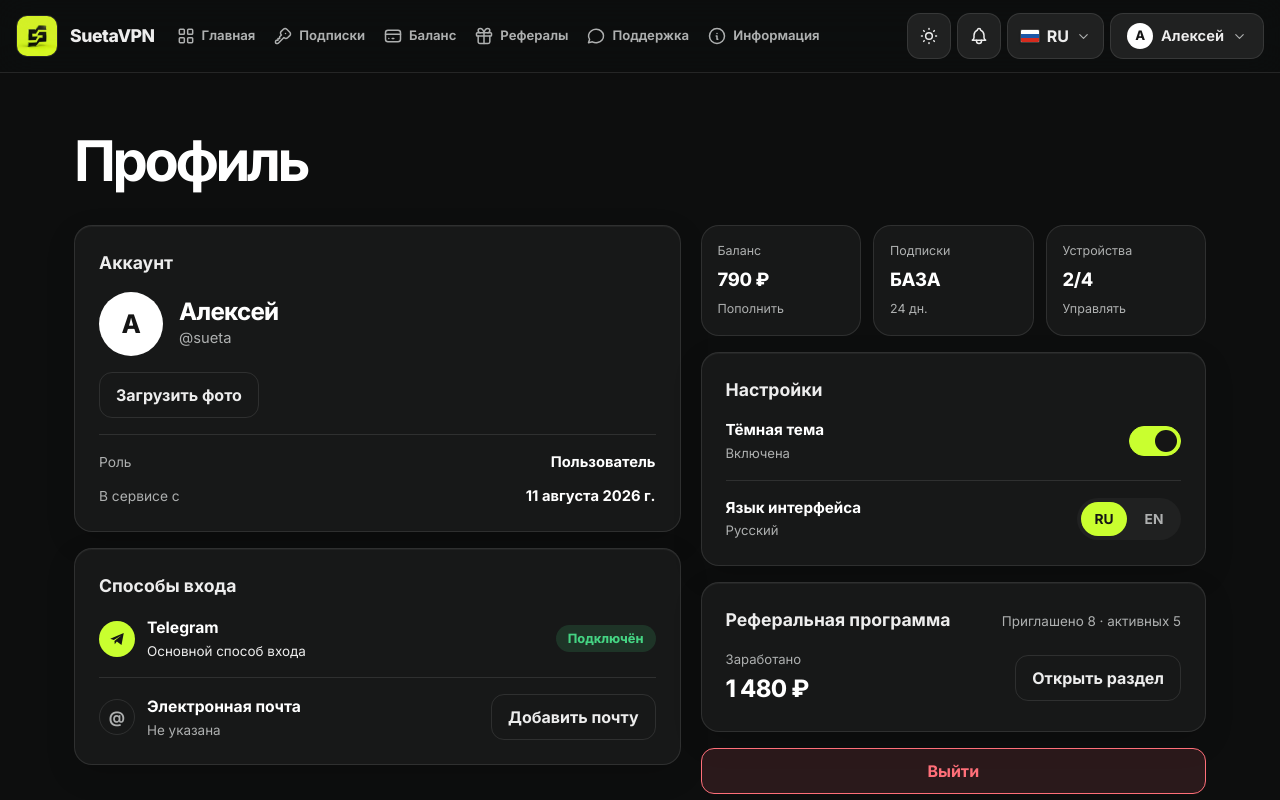
Test: profile screen › rejects a wrong verification code without attaching the email
Click the button "Добавить почту" at (573, 717), box 491,694 -> 656,740
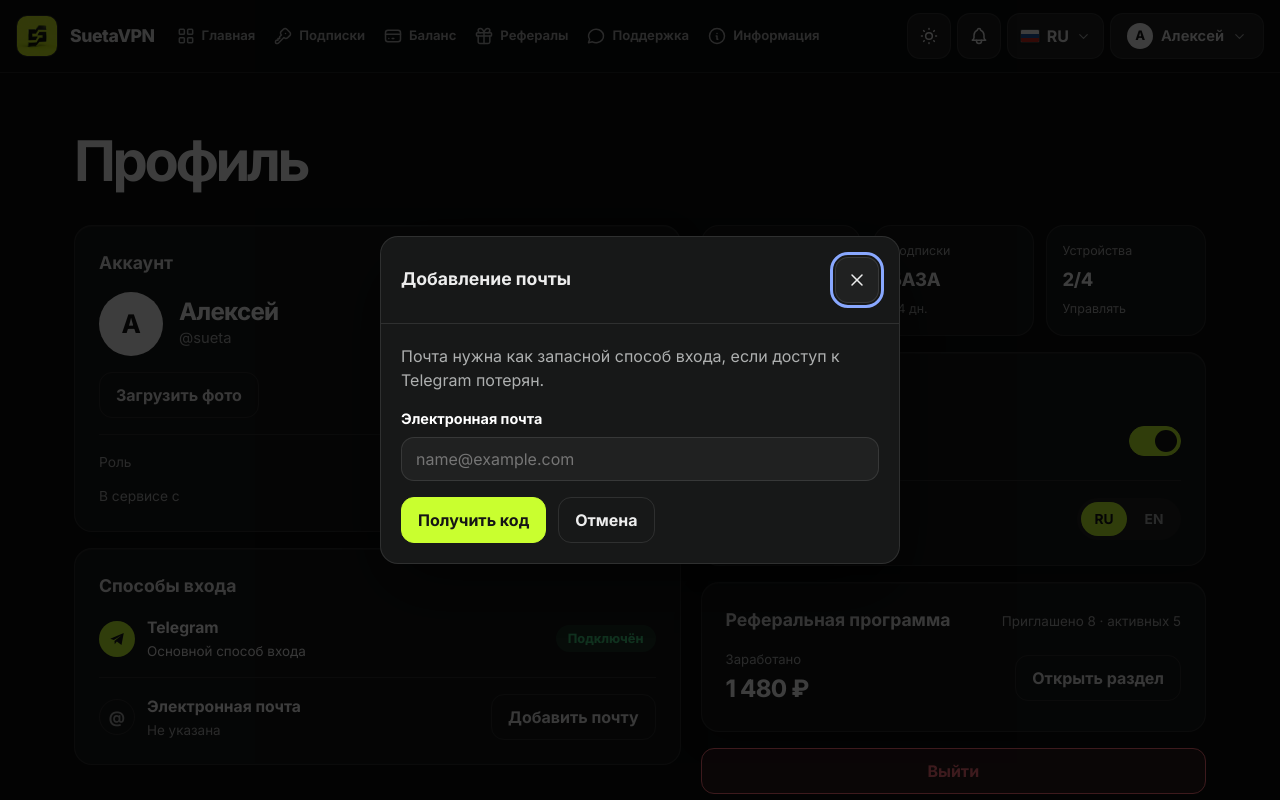
Type "mira@example.com" into the field labelled "Электронная почта" at (640, 459), box 401,437 -> 879,481
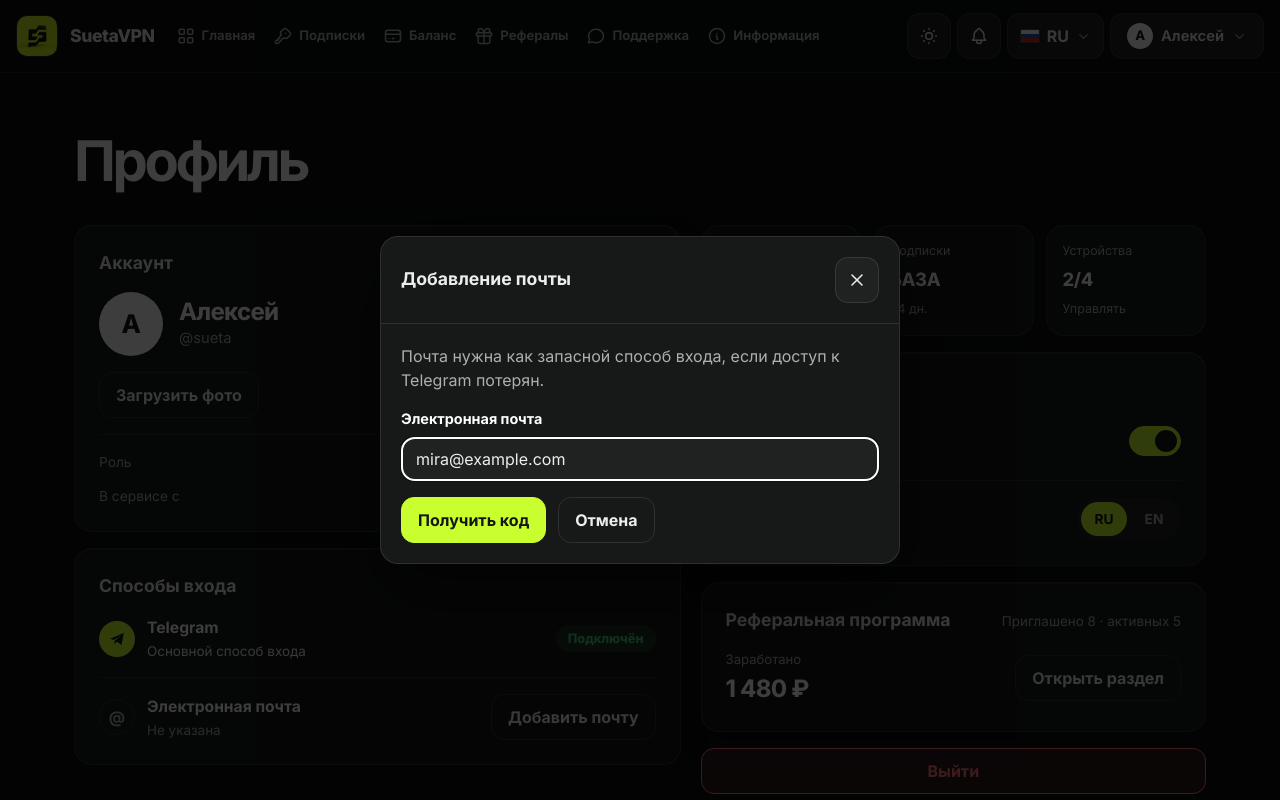
Click the button "Получить код" at (474, 520), box 401,497 -> 546,543
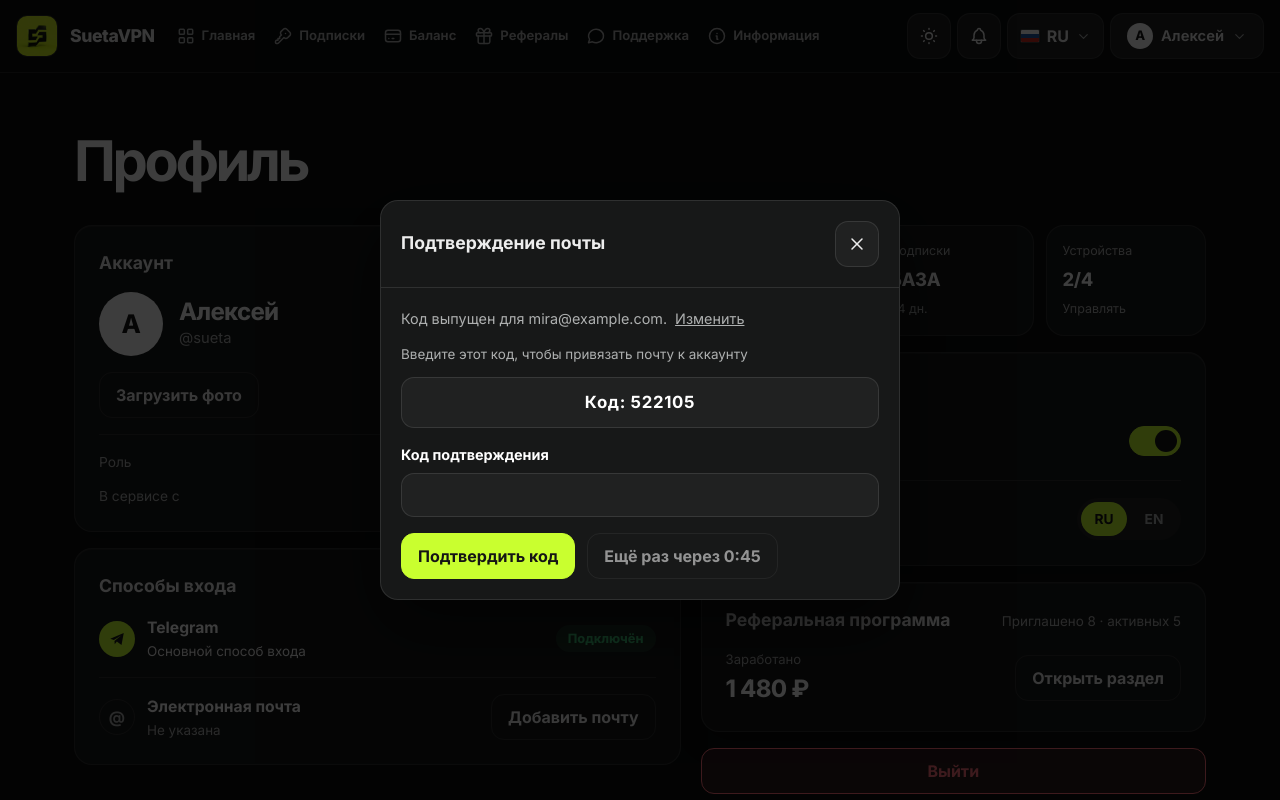
Type "000000" into the field labelled "Код подтверждения" at (640, 495), box 401,473 -> 879,517
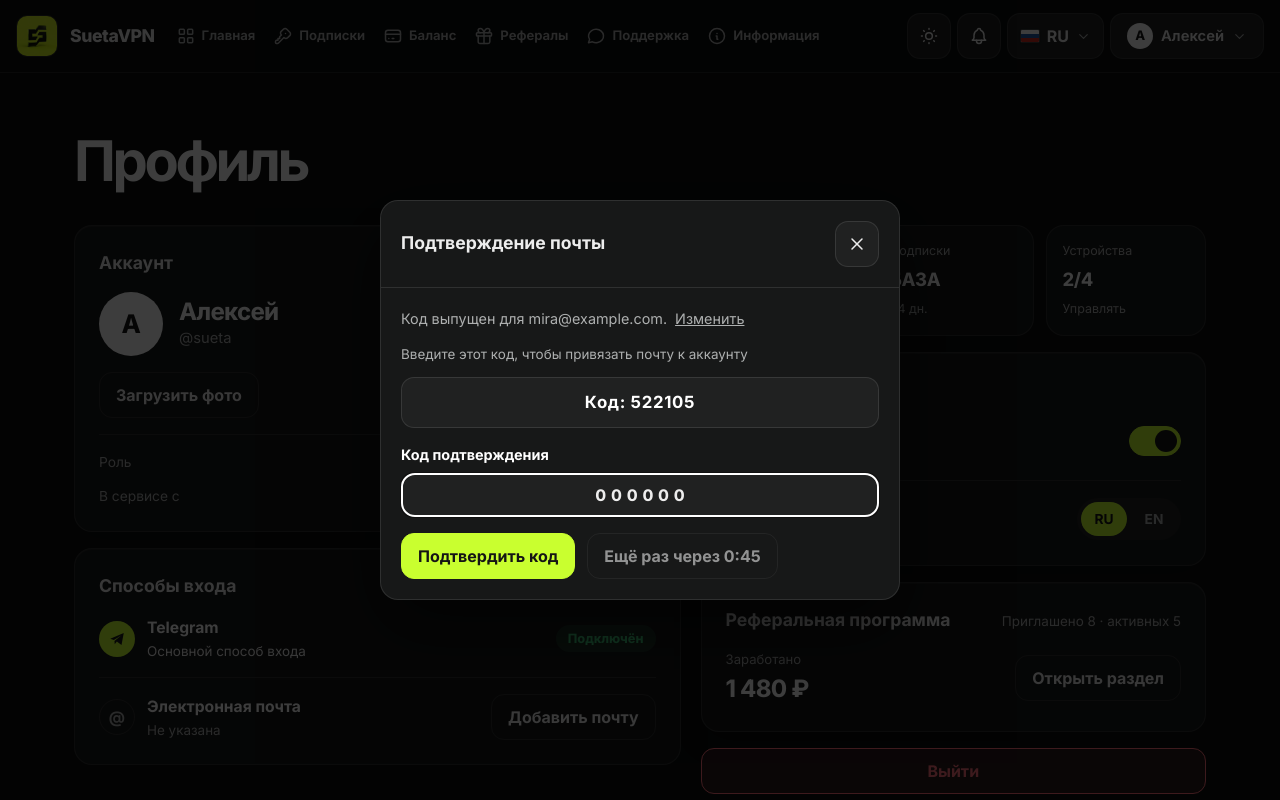
Click the button "Подтвердить код" at (488, 556), box 401,533 -> 575,579
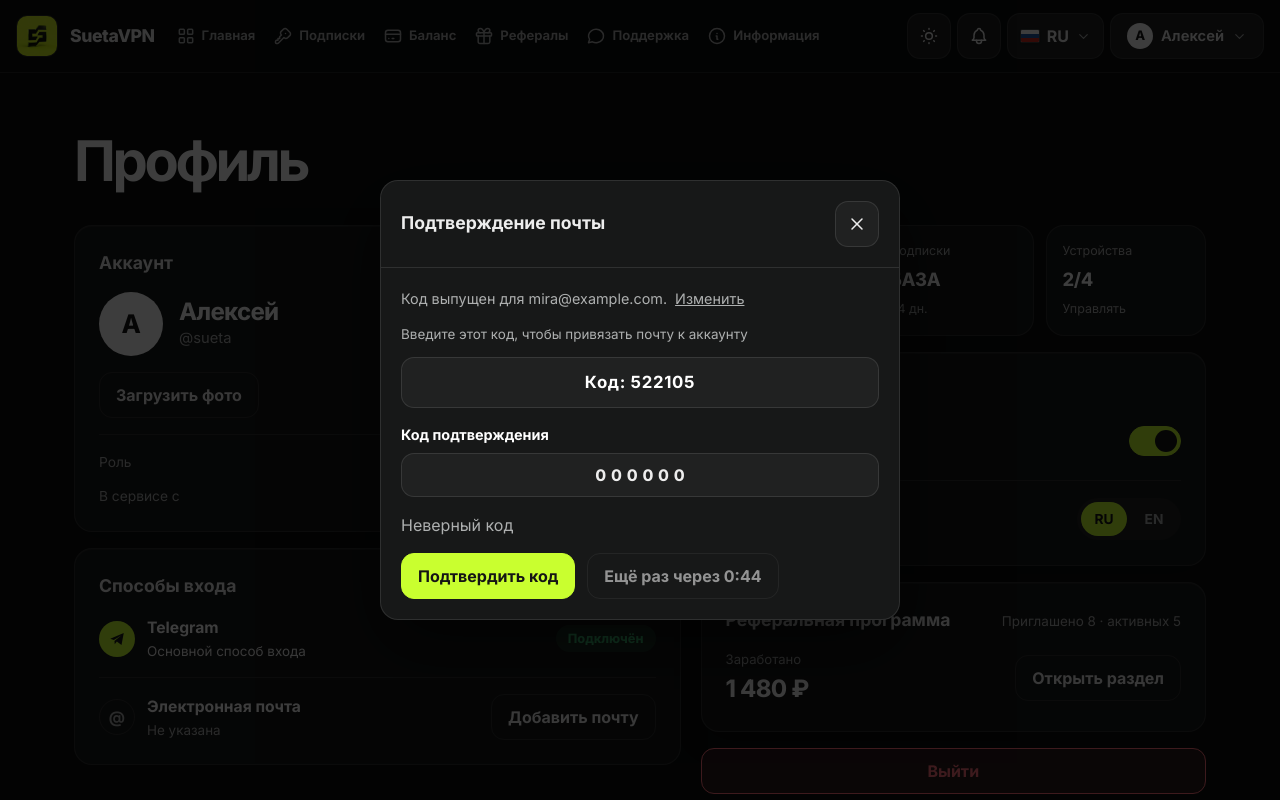
Now the message reads "Неверный код", box 401,515 -> 513,535
